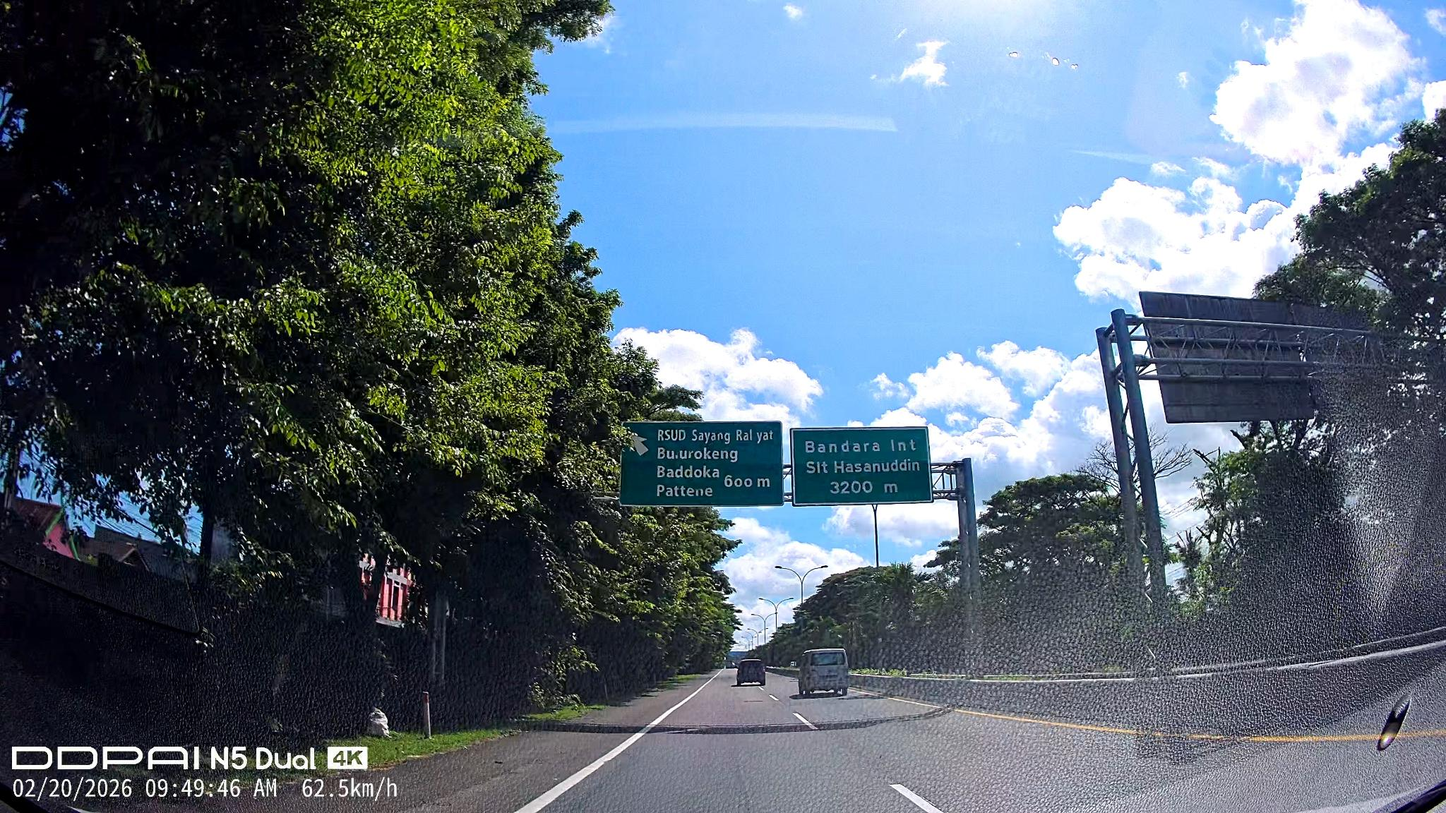rambu_teks: (618, 420, 785, 508), (789, 425, 935, 507)
